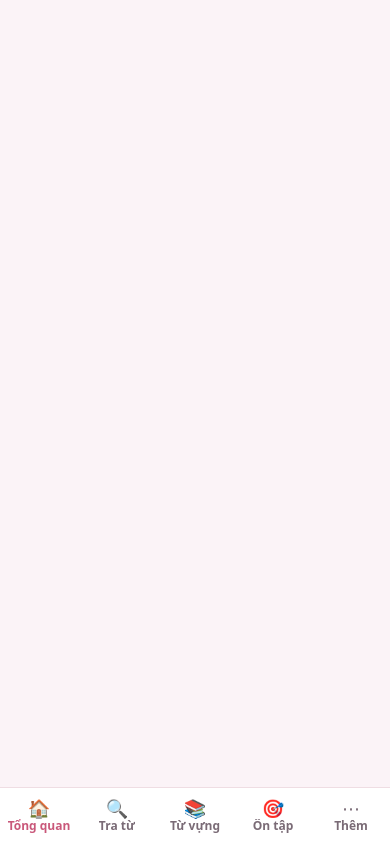
MobileTabBar › closes the sheet when an item is chosen
This screenshot has width=390, height=844.
Click the button "⋯ Thêm": [351, 816] box x1=312 y1=788 x2=389 y2=843
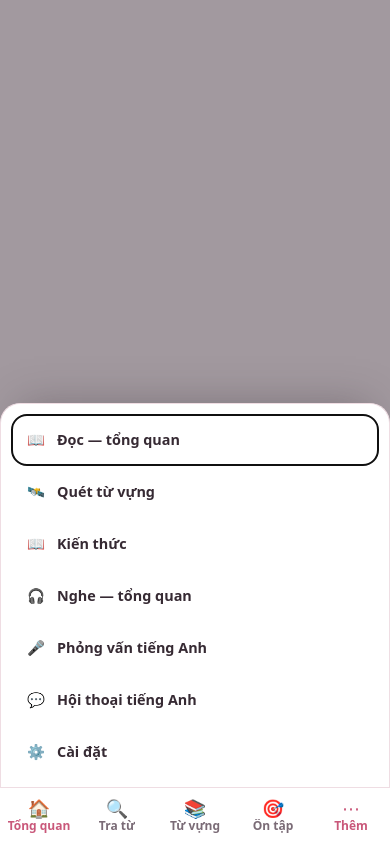
Click the link "📖 Đọc — tổng quan": [104, 440] box x1=27 y1=430 x2=180 y2=449
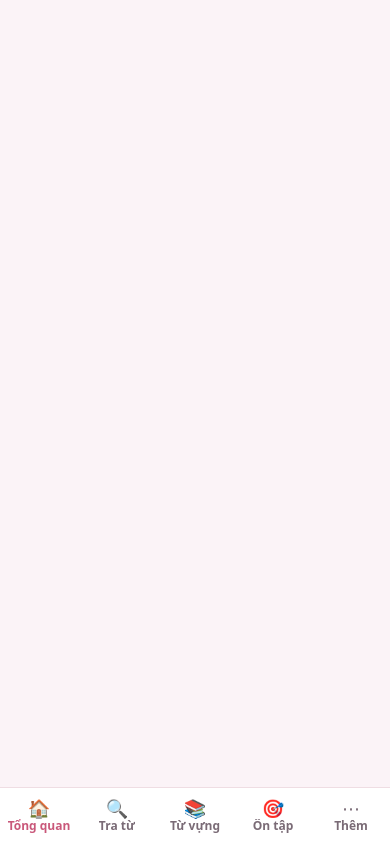
Now the dialog is gone
